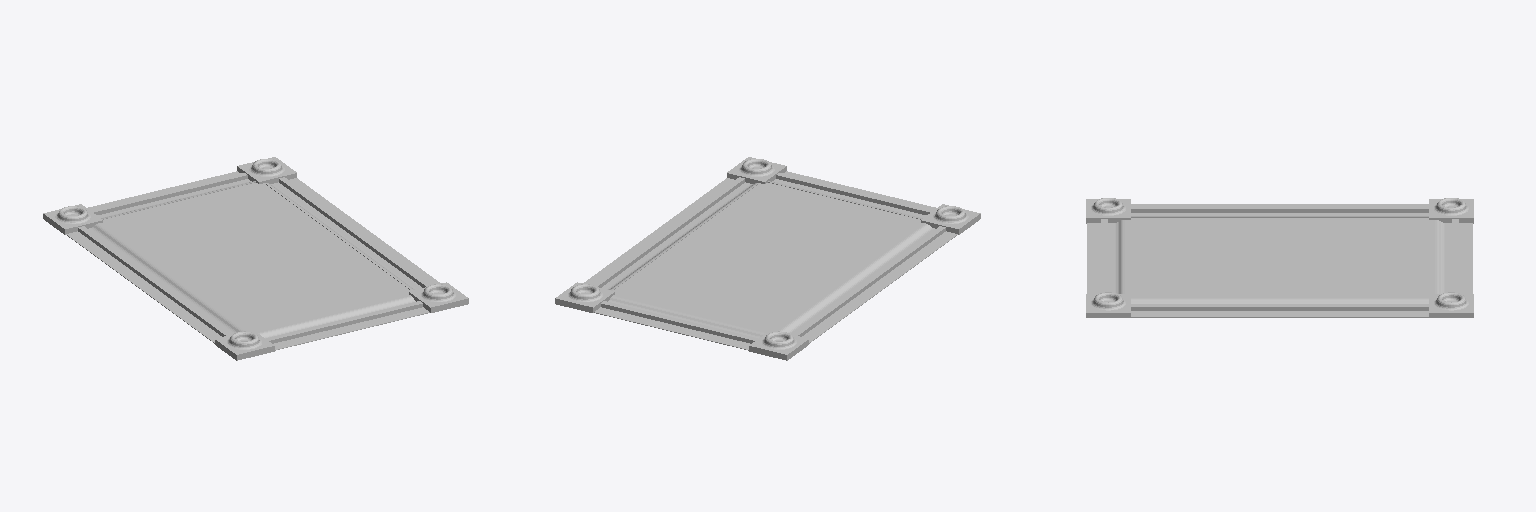
File: frame 16 9.obj
3 views of the same model, side by side, from view 1: azimuth 30°, elevation 25°; view 2: azimuth 150°, elevation 25°; view 3: azimuth 270°, elevation 25° (orthographic).
Parts seen in each view (by area): view 1: Frame_16:9; view 2: Frame_16:9; view 3: Frame_16:9.
Part boxes in pixels (left/top/right/bottom): Frame_16:9: left=43, top=157, right=468, bottom=360; Frame_16:9: left=555, top=157, right=980, bottom=360; Frame_16:9: left=1086, top=198, right=1473, bottom=317.
Bounding box in the file's own units: 104 × 4.88 × 150.